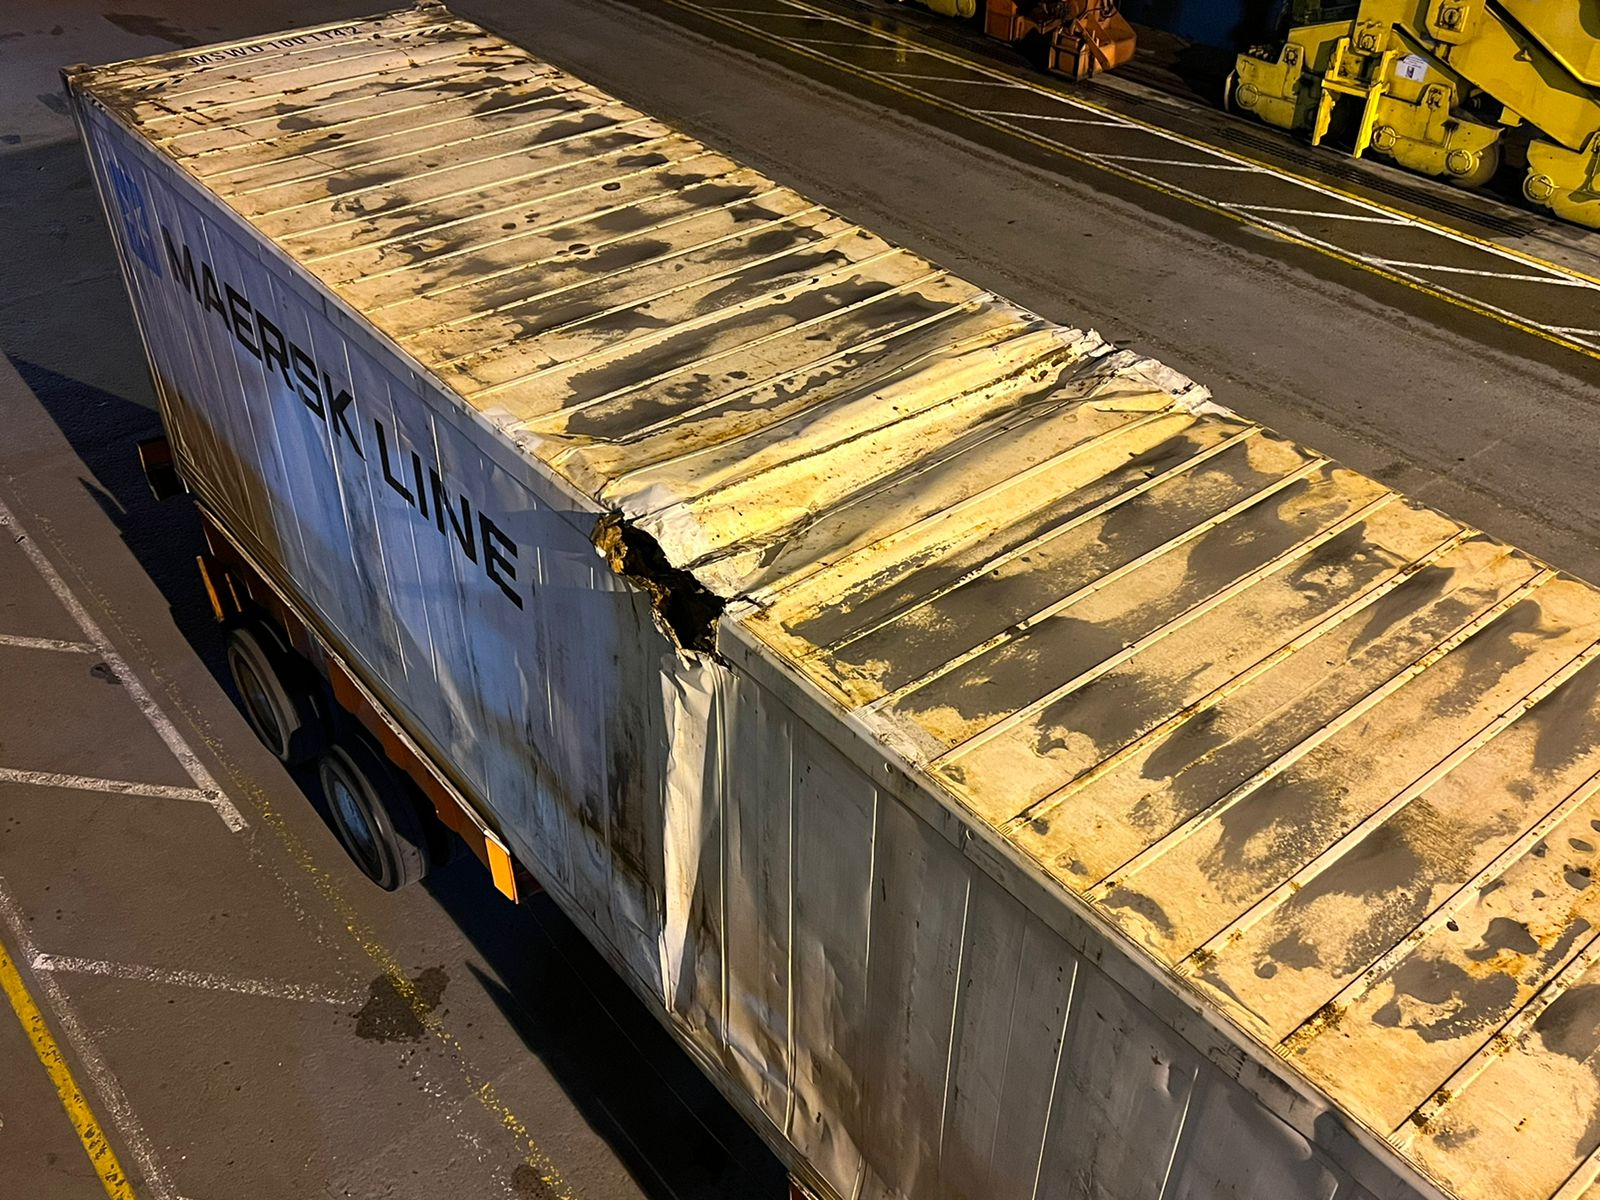cut: (578, 497, 753, 682)
